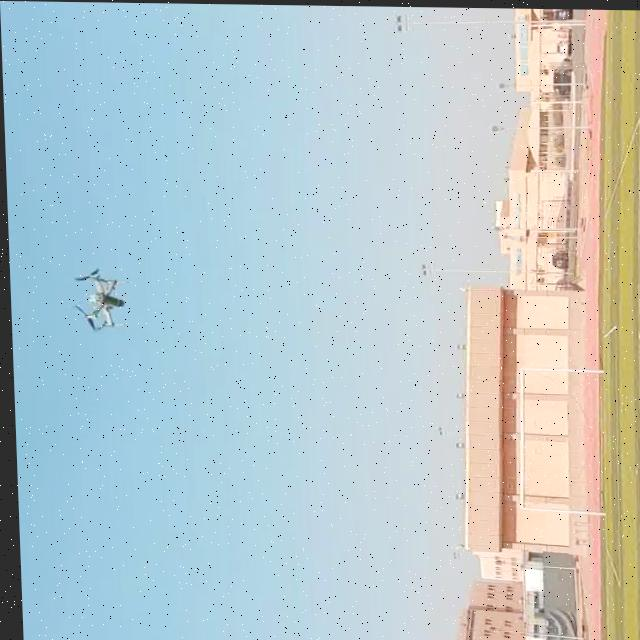drone: (55, 259, 131, 335)
